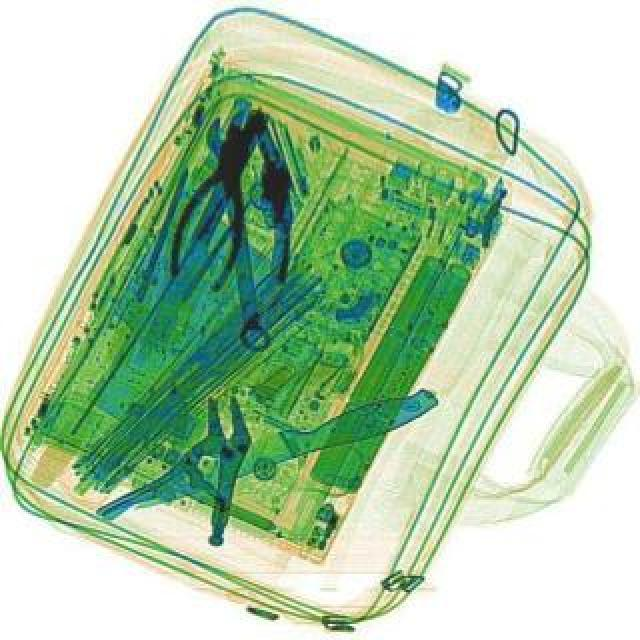gun: (214, 102, 328, 282)
knife: (124, 376, 440, 520), (130, 106, 284, 366)
scissors: (202, 114, 278, 352)
wrench: (160, 110, 272, 296)
